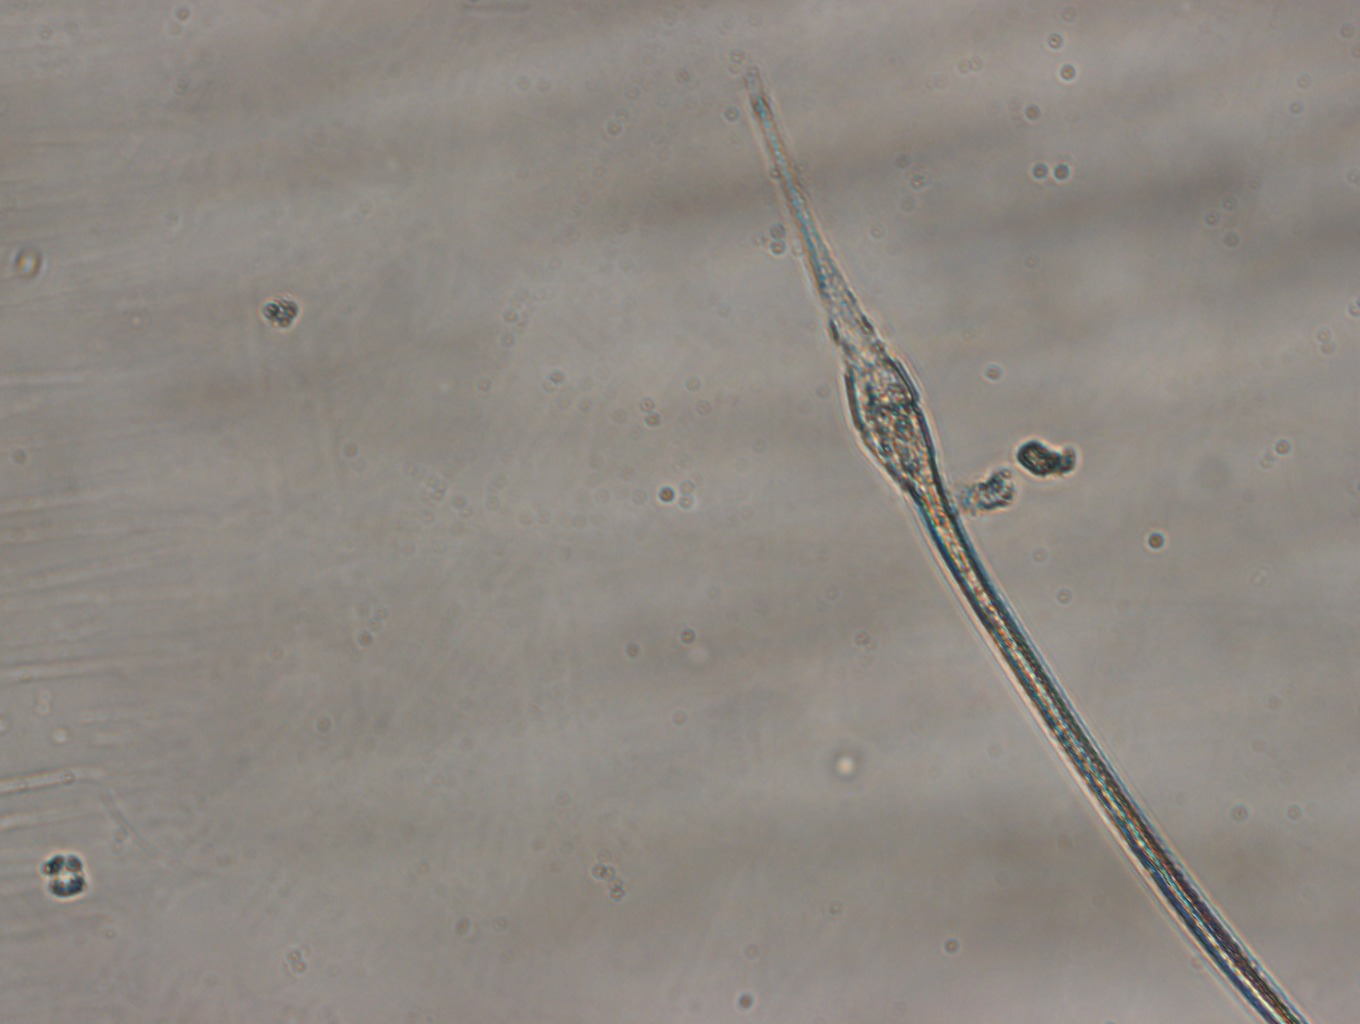ceratium fusus: (741, 65, 1305, 1021)
